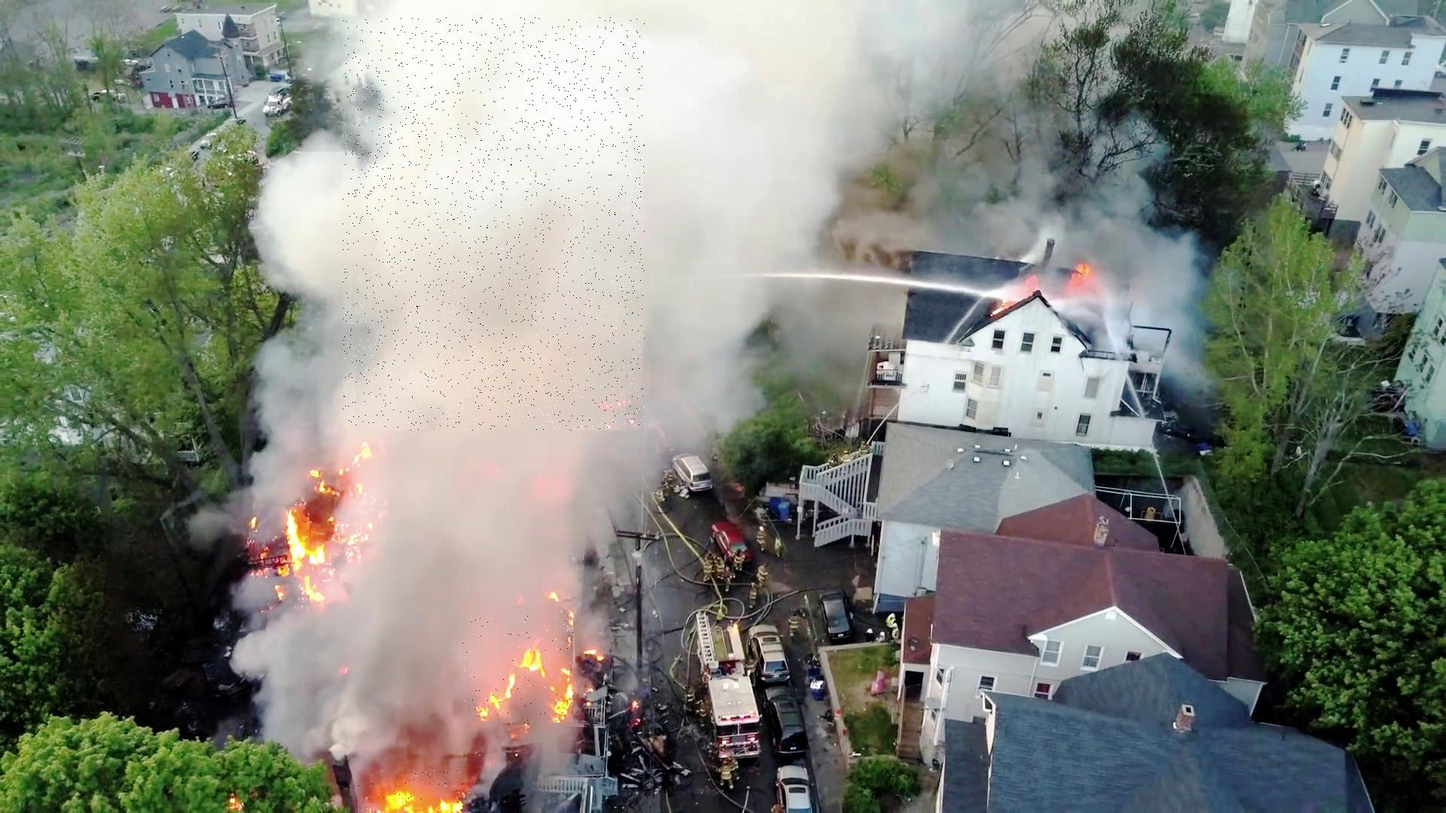fire: (462, 612, 573, 723), (249, 507, 310, 611), (358, 770, 474, 813)
smoke: (343, 17, 645, 431)
